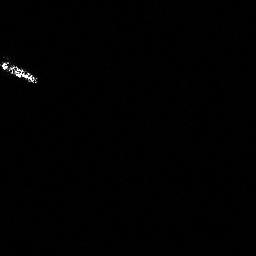ship: (1, 59, 39, 85)
